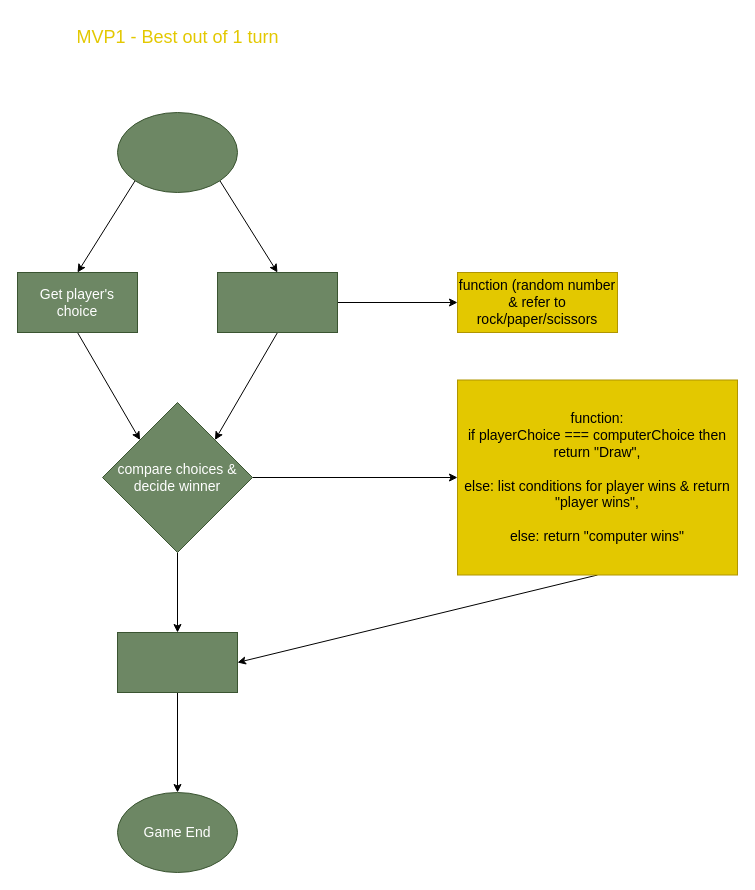
Some shapes in this 755 by 890 pixel diagram are drawn without their labels. Here are the shapes that lost their labels. From the top down, the centre of each, then its label:
(x=177, y=152): Game Start
(x=277, y=302): Get computer's choice
(x=177, y=662): Display results
